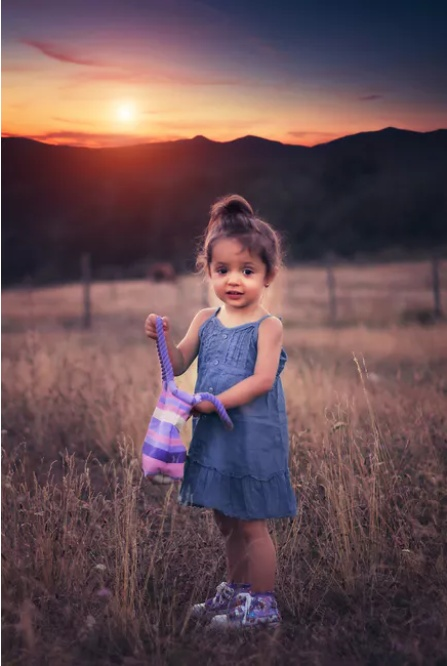face: (210, 240, 264, 307)
